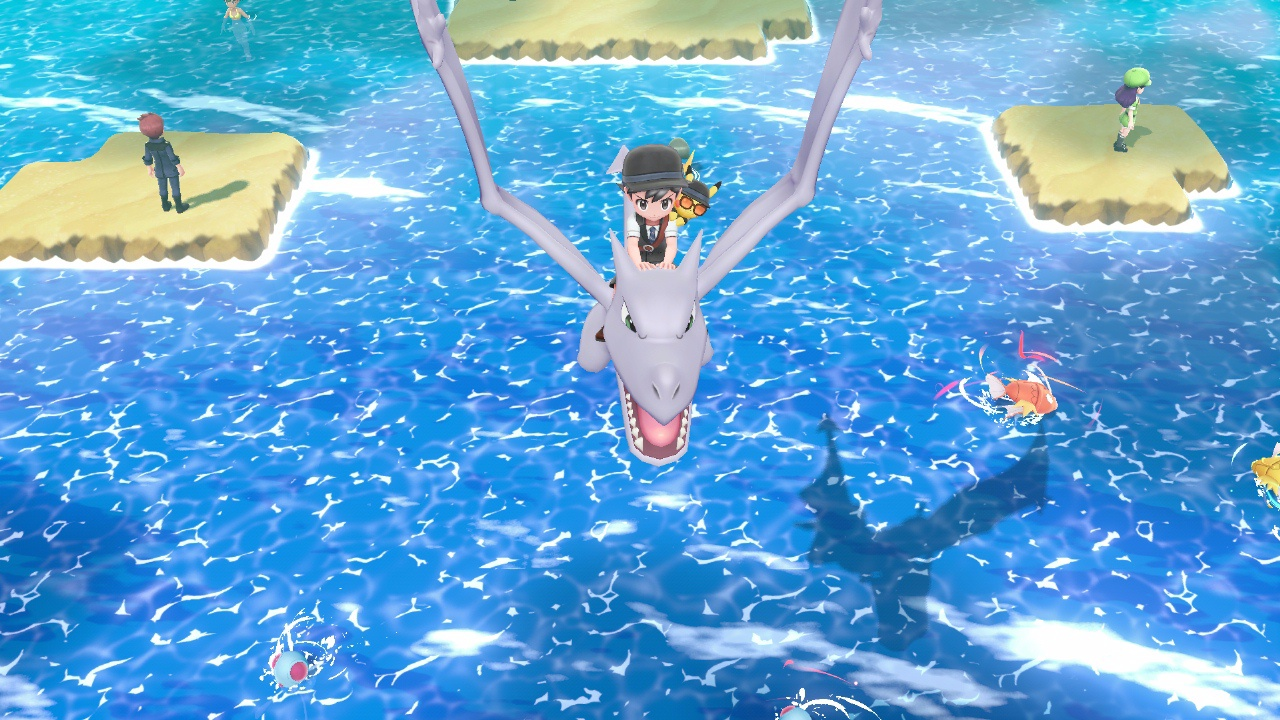Golden: (1251, 439, 1280, 500)
